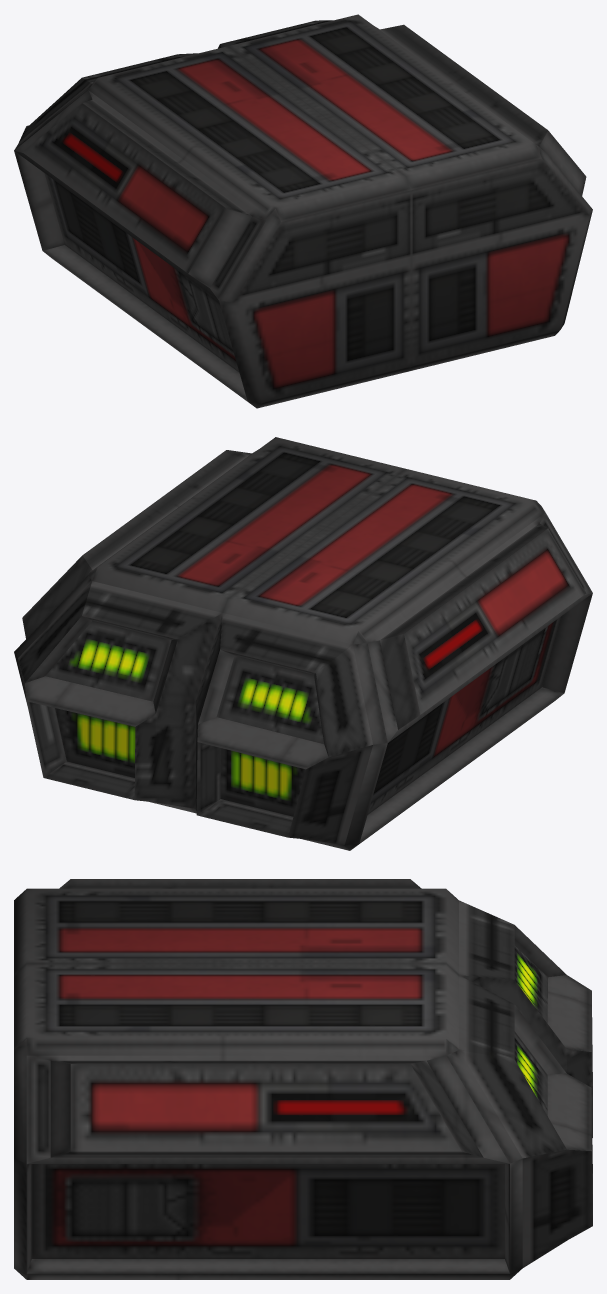
The model's file is BFP_RearHullWithEngines.FBX.
3 renders of one model, top to bottom at view 1: azimuth 30°, elevation 25°; view 2: azimuth 150°, elevation 25°; view 3: azimuth 270°, elevation 25°, orthographic. The views are drawn at different scales.
Parts seen in each view (by area): view 1: BFP_RearHullWithEngines; view 2: BFP_RearHullWithEngines; view 3: BFP_RearHullWithEngines.
Boxes of the visible parts, x1,y1,x2,y2 form: BFP_RearHullWithEngines: (14, 14, 592, 408); BFP_RearHullWithEngines: (14, 437, 592, 850); BFP_RearHullWithEngines: (14, 879, 592, 1279).
Bounding box in the file's own units: 213 × 100 × 228.
Materials: 1 (1 with a texture image).
